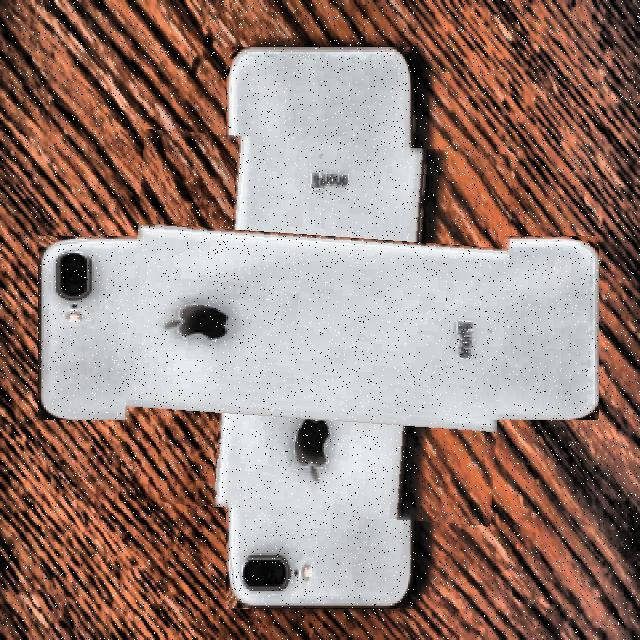Phone: (126, 135, 510, 520)
